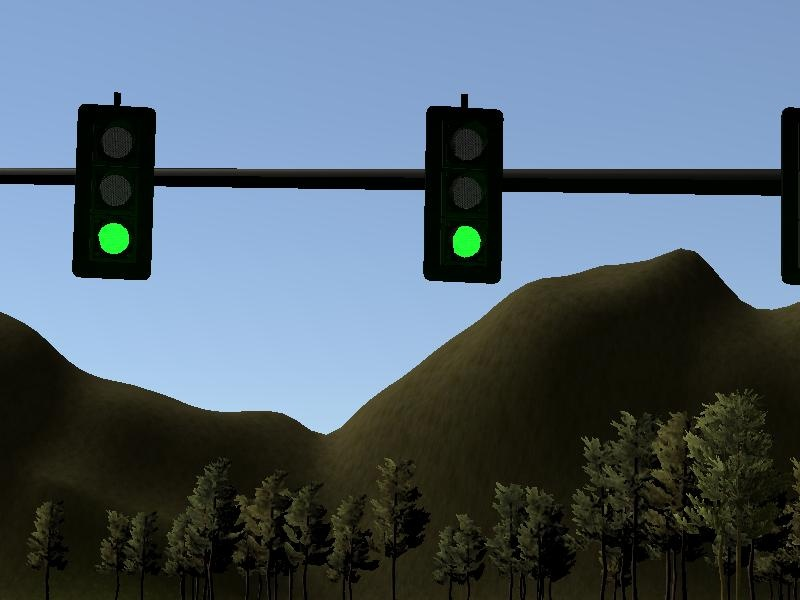GREEN: (423, 107, 503, 284), (75, 104, 154, 281)
